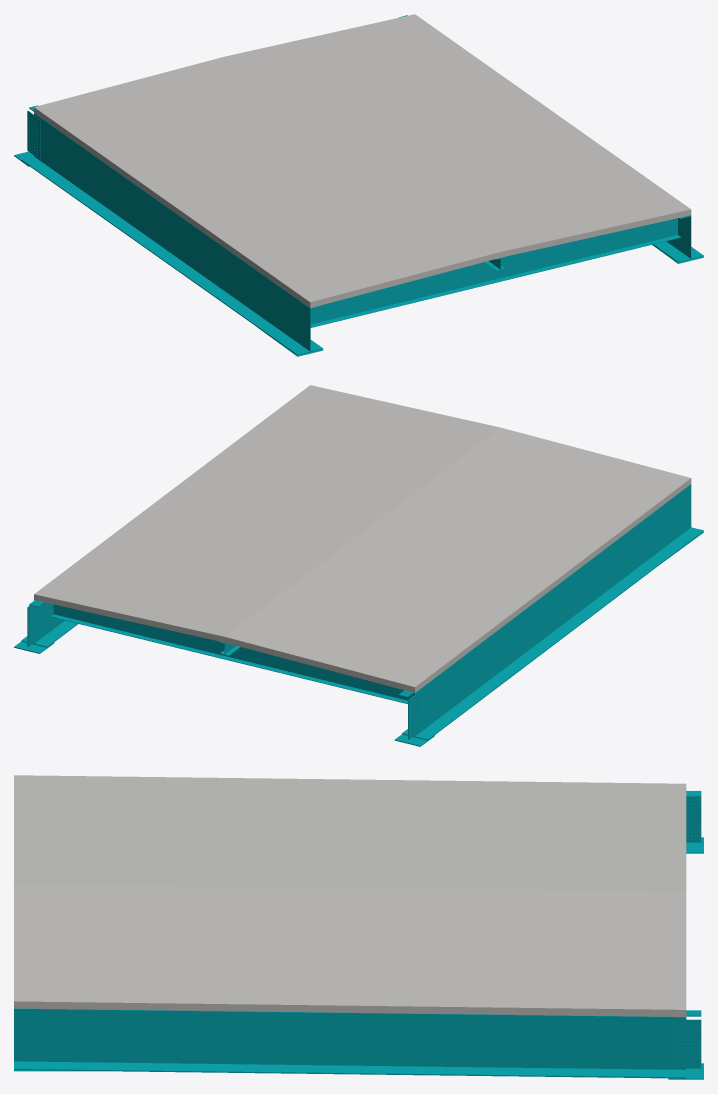
File: DECK_SS01.glb
3 renders of one model, top to bottom at view 1: azimuth 30°, elevation 25°; view 2: azimuth 150°, elevation 25°; view 3: azimuth 270°, elevation 25°, orthographic. The views are drawn at different scales.
Parts seen in each view (by area): view 1: SS01_Slab_29, SS01_G_W_0, SS01_FB_web_25, SS01_FB_bf_28, SS01_G_E_1, SS01_SpliceW_31; view 2: SS01_Slab_29, SS01_G_W_0, SS01_FB_web_5, SS01_FB_bf_8, SS01_G_E_1, SS01_SpliceW_31; view 3: SS01_Slab_29, SS01_G_E_1, SS01_SpliceW_40, SS01_SpliceW_32.
Boxes of the visible parts, x1,y1,x2,y2 form: SS01_Slab_29: (34, 14, 691, 307); SS01_G_W_0: (21, 113, 323, 355); SS01_FB_web_25: (310, 218, 677, 324); SS01_FB_bf_28: (310, 235, 680, 327); SS01_G_E_1: (653, 215, 703, 262); SS01_SpliceW_31: (27, 111, 40, 159); SS01_Slab_29: (34, 385, 691, 692); SS01_G_W_0: (402, 484, 703, 740); SS01_FB_web_5: (53, 604, 414, 700); SS01_FB_bf_8: (50, 614, 407, 703); SS01_G_E_1: (21, 602, 77, 647); SS01_SpliceW_31: (408, 691, 421, 739); SS01_Slab_29: (14, 775, 686, 1016); SS01_G_E_1: (14, 1008, 686, 1078); SS01_SpliceW_40: (671, 1020, 701, 1068); SS01_SpliceW_32: (686, 797, 701, 842).
Bounding box in the file's own units: 18.26 × 2.69 × 22.07.
